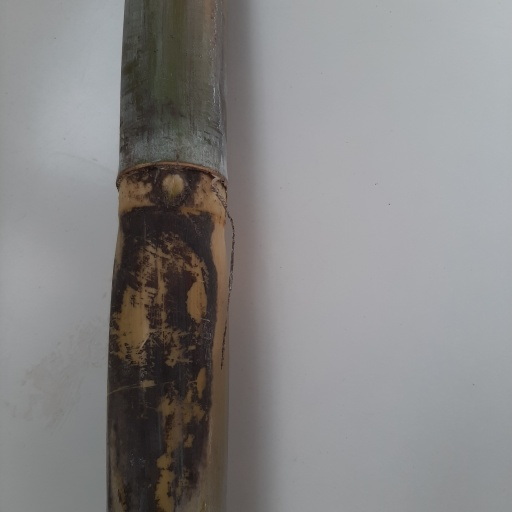Bud: (156, 169, 190, 208)
